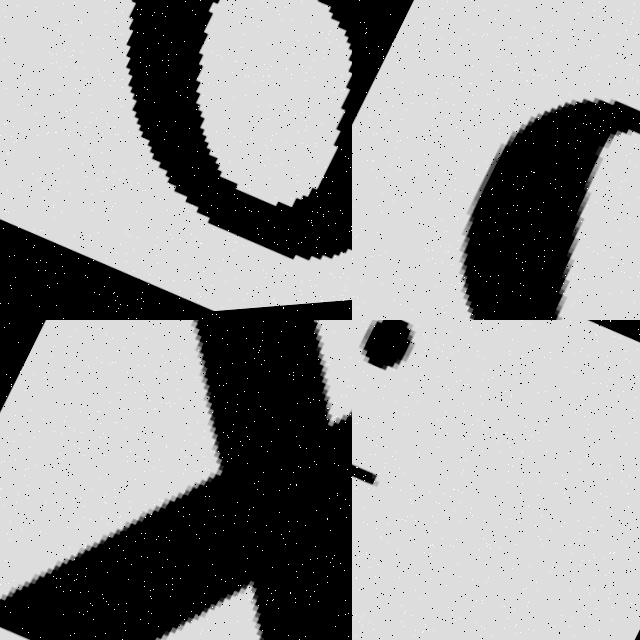6: (0, 0, 352, 320)
B: (461, 104, 640, 320)
J: (352, 320, 502, 640)
X: (0, 320, 352, 640)
